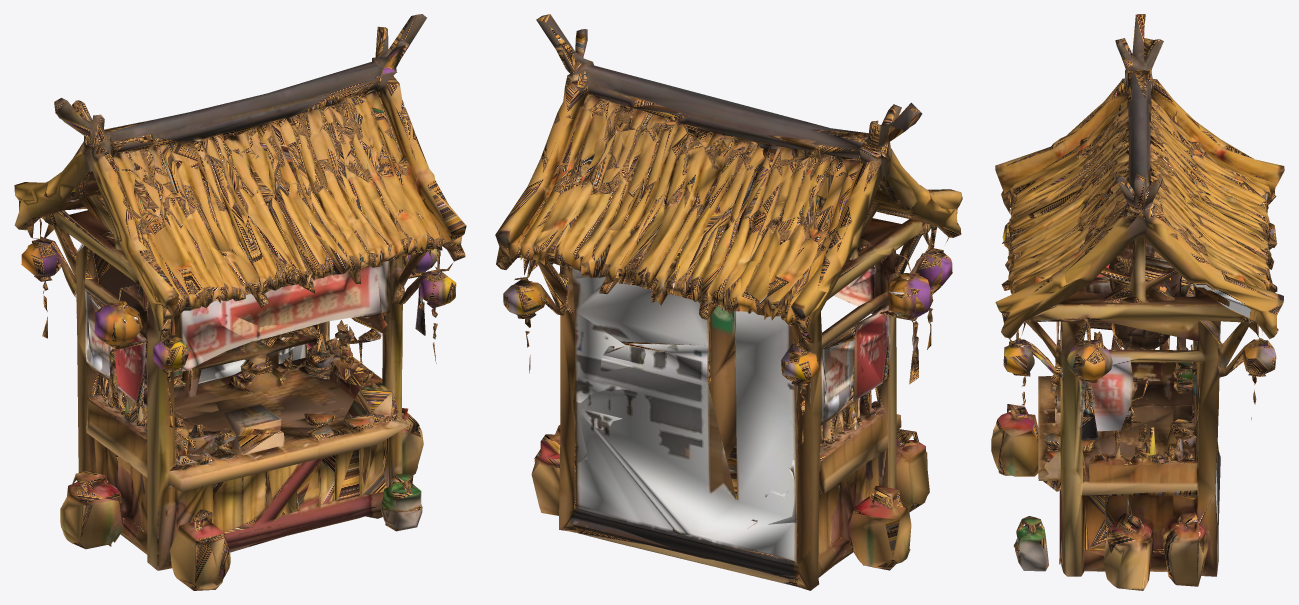
Rendered from bq_lantern_shop.mid.glb.
3 renders of one model, left to right at view 1: azimuth 30°, elevation 25°; view 2: azimuth 150°, elevation 25°; view 3: azimuth 270°, elevation 25°, orthographic. The views are drawn at different scales.
Bounding box in the file's own units: 1.61 × 1.9 × 1.18.
1 material, 1 textured.
